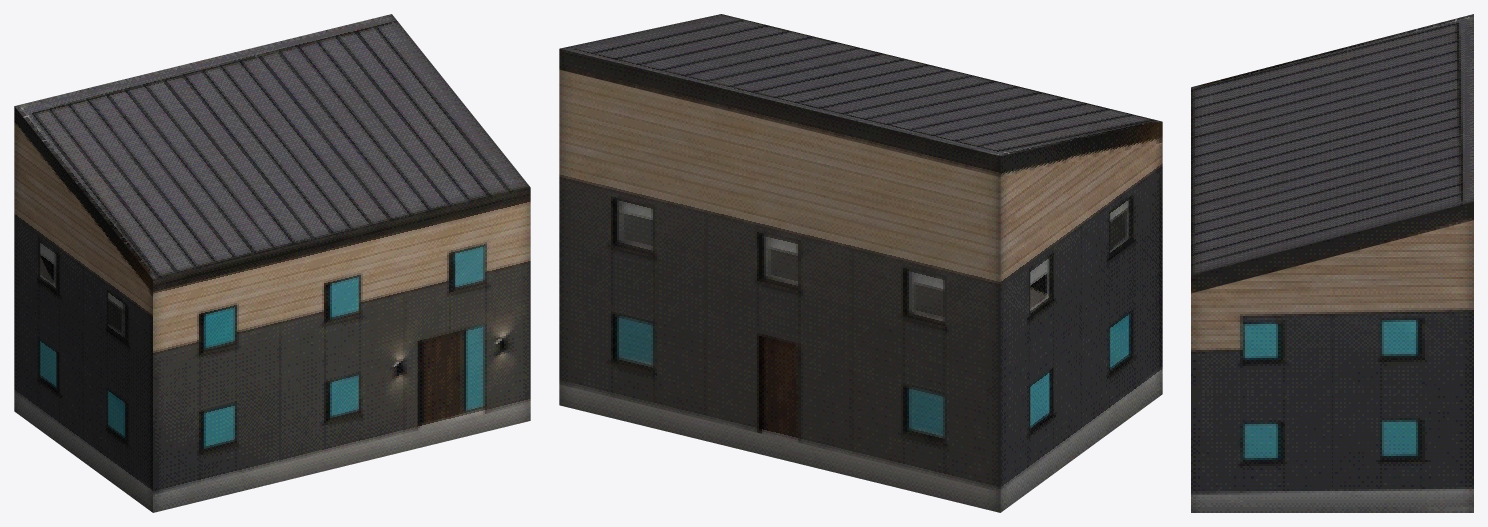
Rendered from house.glb.
The picture shows the model from 3 angles, left to right: view 1: azimuth 30°, elevation 25°; view 2: azimuth 150°, elevation 25°; view 3: azimuth 270°, elevation 25°; orthographic projection. The views are drawn at different scales.
Visible parts, largest first — view 1: Contemporary Family House; view 2: Contemporary Family House; view 3: Contemporary Family House.
Part boxes in pixels (x1=…): Contemporary Family House: x1=14, y1=14, x2=530, y2=512; Contemporary Family House: x1=559, y1=14, x2=1162, y2=512; Contemporary Family House: x1=1191, y1=14, x2=1473, y2=512.
Bounding box in the file's own units: 11 × 8.5 × 7.
Materials: 1 (1 with a texture image).
